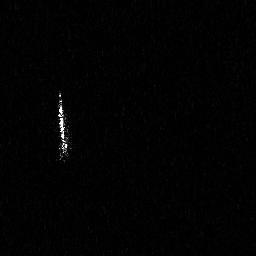ship: (55, 90, 71, 164)
